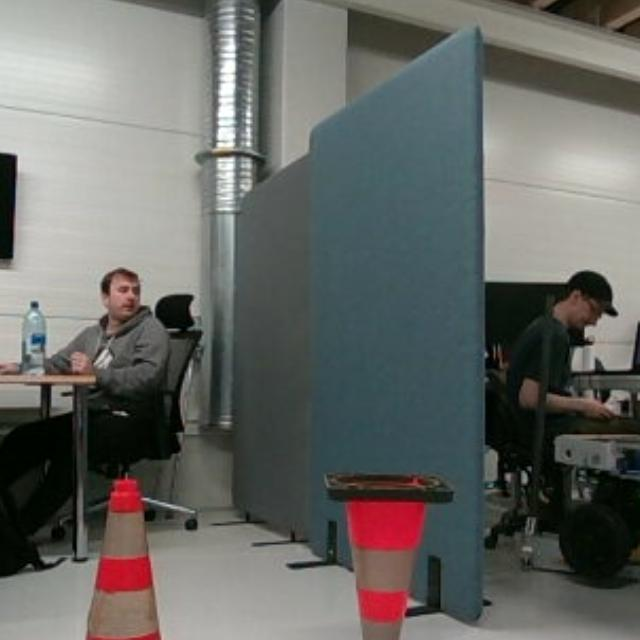Traffic-cone: (48, 472, 194, 640), (322, 466, 454, 640)
